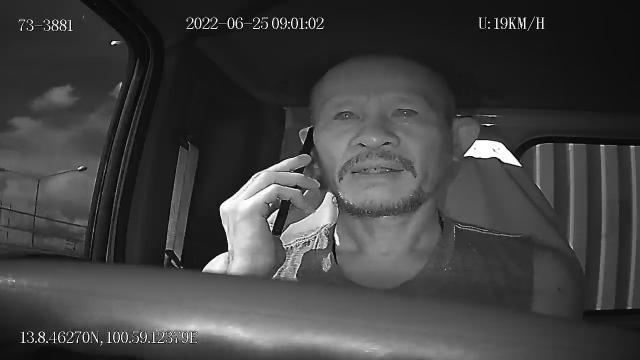PhoneUse: (270, 127, 316, 241)
SafeDriving: (384, 97, 426, 126), (326, 100, 366, 129)
